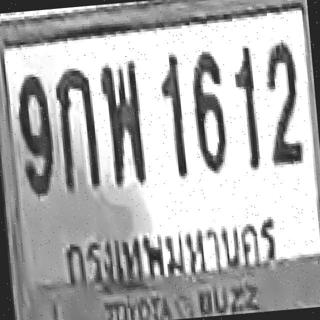A01: (53, 64, 101, 192)
A30: (98, 59, 145, 184)
N01: (156, 54, 189, 180), (230, 45, 261, 170)
N02: (261, 39, 303, 166)
N06: (188, 49, 230, 173)
N09: (14, 72, 56, 196)
P04: (56, 212, 280, 290)
